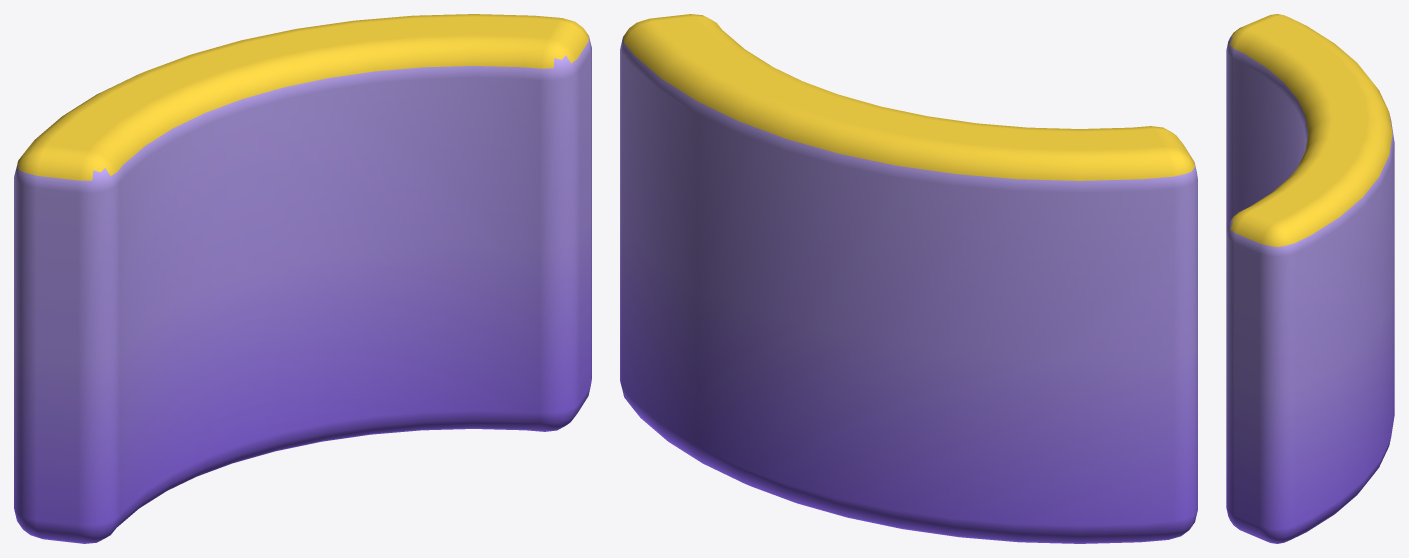
The model's file is curved_wall_r2_90deg_h2.glb.
3 views of the same model, side by side, from view 1: azimuth 30°, elevation 25°; view 2: azimuth 150°, elevation 25°; view 3: azimuth 270°, elevation 25° (orthographic). The views are drawn at different scales.
Visible parts, largest first — view 1: curved_wall_r2_90deg_h2; view 2: curved_wall_r2_90deg_h2; view 3: curved_wall_r2_90deg_h2.
Part boxes in pixels (x1,y1,x2,y2): curved_wall_r2_90deg_h2: [14, 14, 591, 543]; curved_wall_r2_90deg_h2: [620, 14, 1197, 543]; curved_wall_r2_90deg_h2: [1226, 14, 1394, 543].
Size of the model in its own units: 3.05 by 2 by 0.9526.
1 material, 1 textured.
